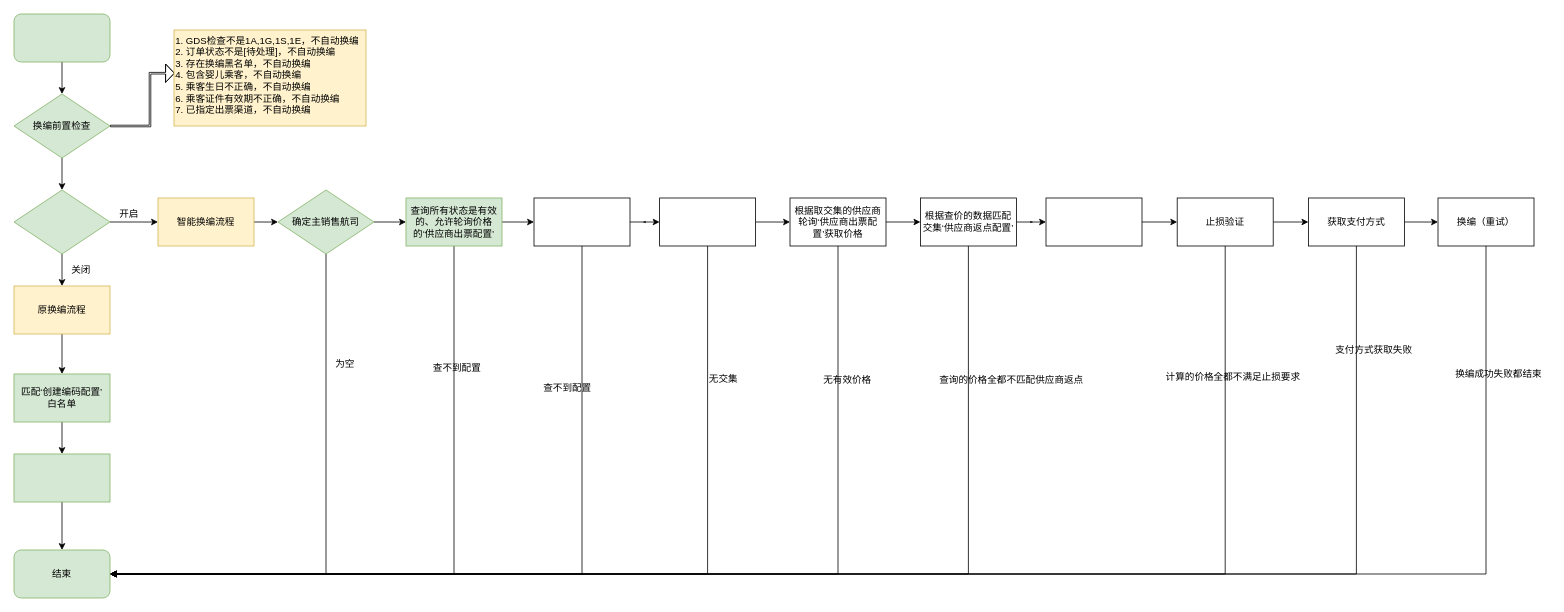
Image size: 1564x612. Some labels were removed from this diagram. Here are the shapes that lost their labels. From the top down, the centre of each, then its label:
At [61,37]: "换编流程".
At [61,221]: "智能换编开关".
At [581,221]: "根据‘ 出发城市、行程类型、航司 ’查询供应商返点配置".
At [707,221]: "根据‘供应商出票配置’与‘供应商返点配置’ 取交集".
At [1093,221]: "计算成本，并排序".
At [61,477]: "换编（失败重试）".
